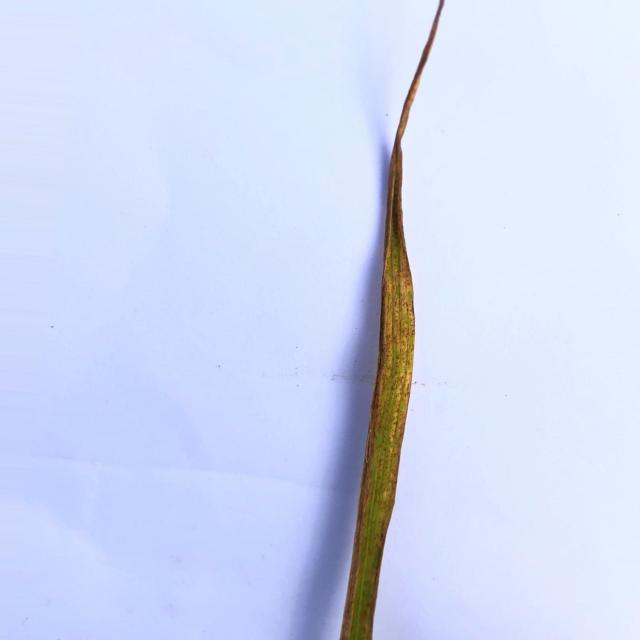Rice Tungro: (340, 0, 444, 640)
